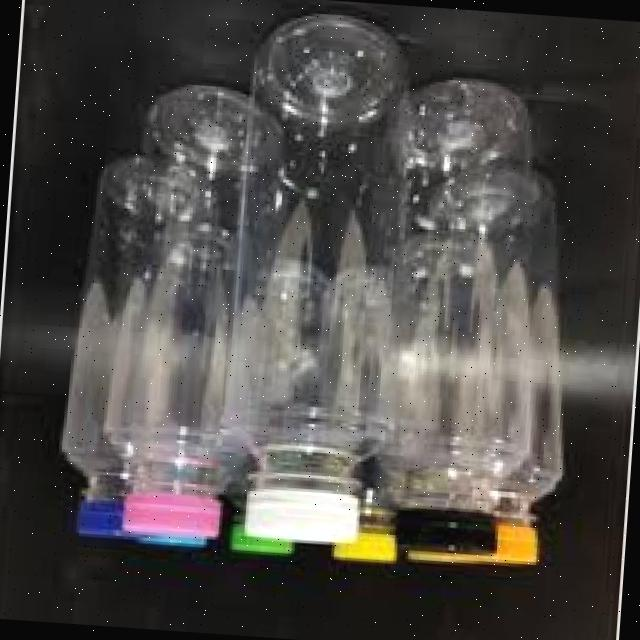bottle: (207, 13, 420, 543), (376, 79, 604, 572), (90, 32, 262, 547), (63, 126, 176, 558)
cap: (245, 478, 366, 546), (115, 481, 232, 539), (391, 504, 502, 555)
